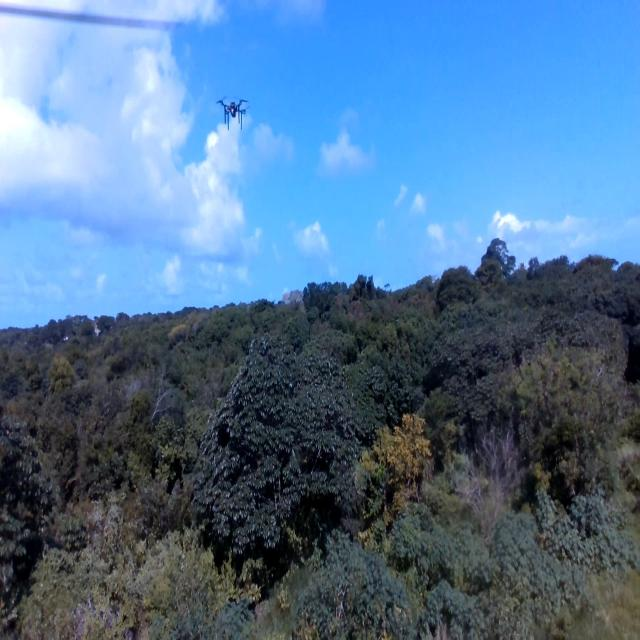-uav-: (212, 90, 253, 132)
